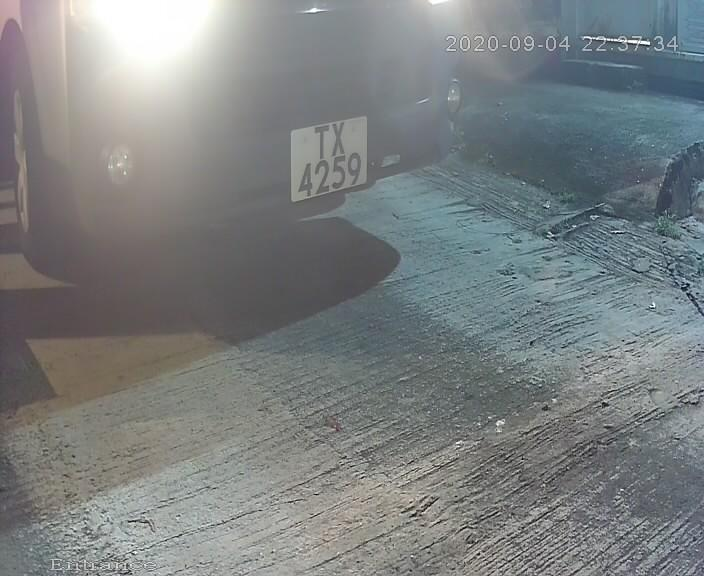License Plate: (280, 96, 381, 219)
